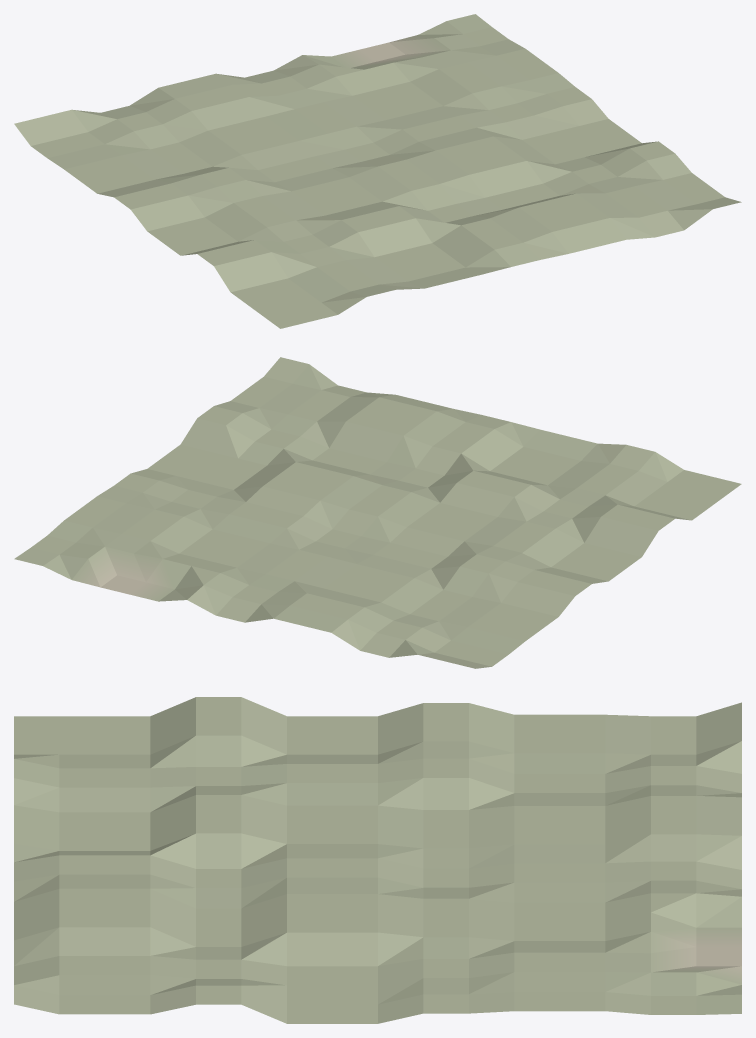
3 renders of one model, top to bottom at view 1: azimuth 30°, elevation 25°; view 2: azimuth 150°, elevation 25°; view 3: azimuth 270°, elevation 25°, orthographic. The views are drawn at different scales.
Size of the model in its own units: 32 by 0.9571 by 32.
